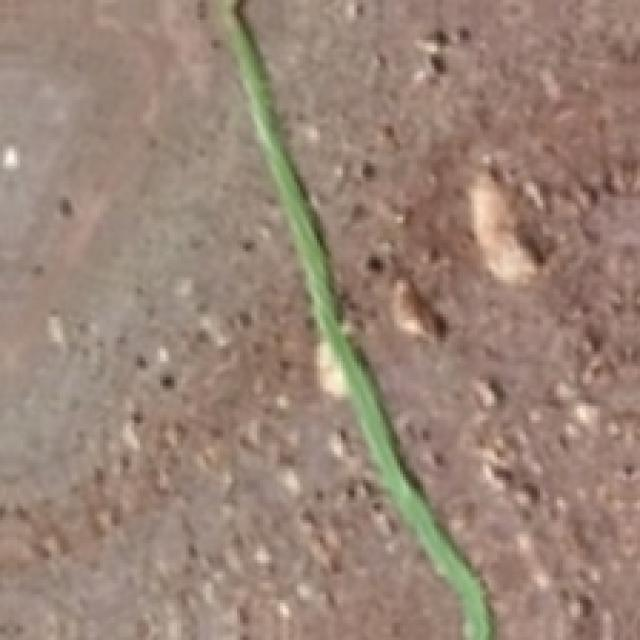red-tailed green ratsnake: (220, 0, 491, 637)
